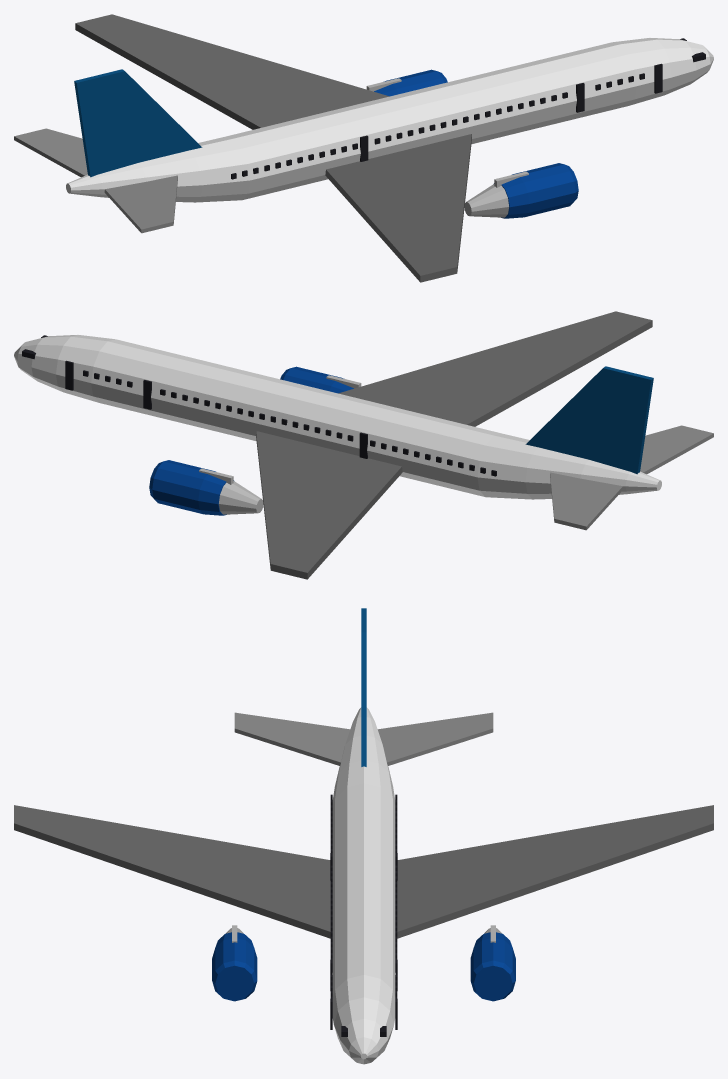
Rendered from airliner.glb.
3 views of the same model, one above another, from view 1: azimuth 30°, elevation 25°; view 2: azimuth 150°, elevation 25°; view 3: azimuth 270°, elevation 25° (orthographic).
Visible parts, largest first — view 1: Airliner; view 2: Airliner; view 3: Airliner.
Boxes of the visible parts, left/top/right/bottom form: Airliner: left=14, top=14, right=713, bottom=282; Airliner: left=14, top=311, right=713, bottom=579; Airliner: left=14, top=608, right=713, bottom=1064.
Bounding box in the file's own units: 14 × 3.74 × 13.
